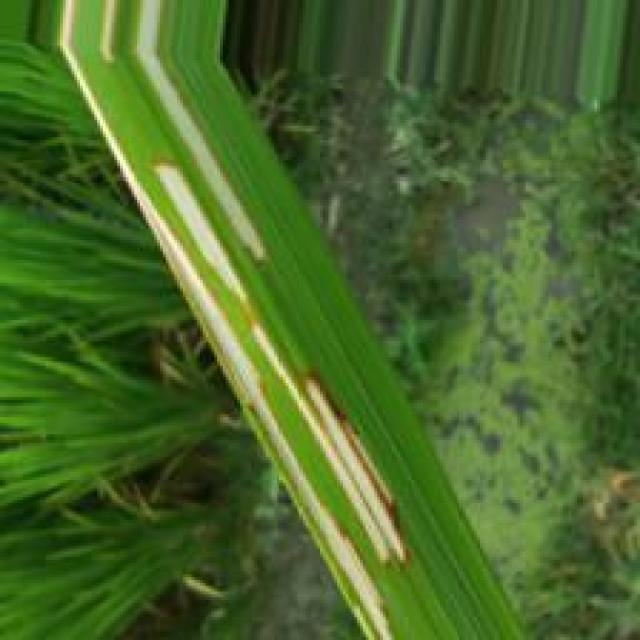Rice_Hispa: (123, 156, 395, 637), (151, 163, 411, 576), (133, 0, 265, 260)
